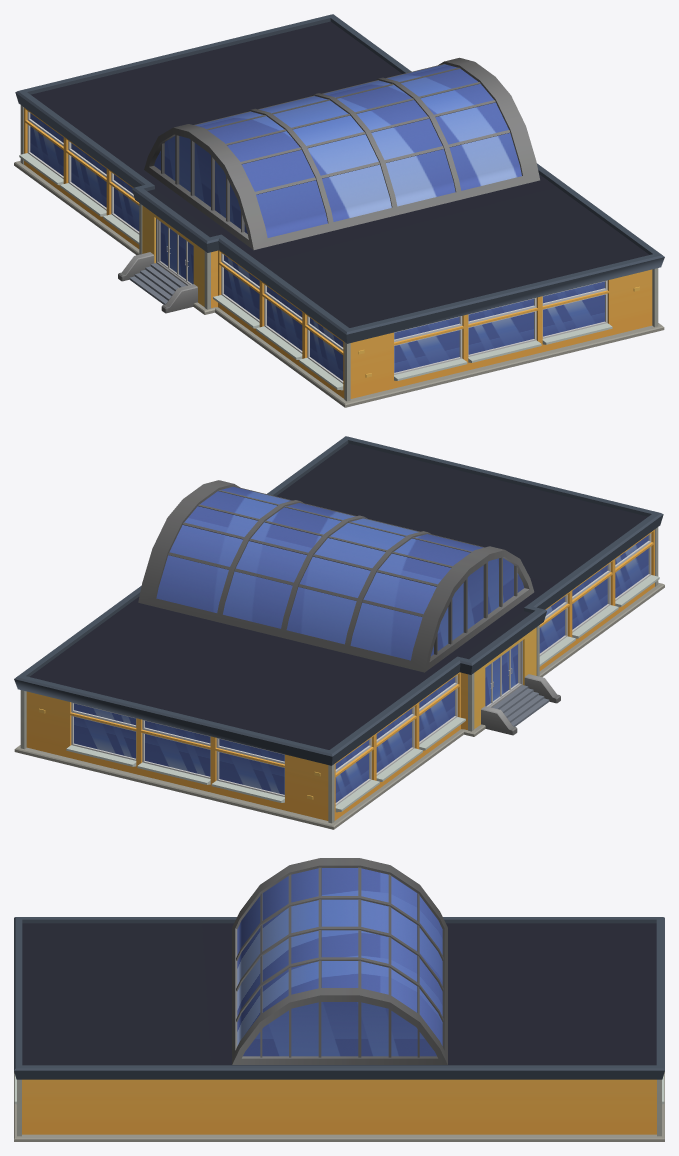
File: Building_16_2_J.glb
3 renders of one model, top to bottom at view 1: azimuth 30°, elevation 25°; view 2: azimuth 150°, elevation 25°; view 3: azimuth 270°, elevation 25°, orthographic.
Visible parts, largest first — view 1: Building_16_2_J; view 2: Building_16_2_J; view 3: Building_16_2_J.
Part boxes in pixels (x1,y1,x2,y2): Building_16_2_J: [14, 14, 664, 407]; Building_16_2_J: [14, 436, 664, 829]; Building_16_2_J: [14, 858, 664, 1141].
Size of the model in its own units: 18.88 by 7.18 by 30.26.
3 materials, 3 textured.
